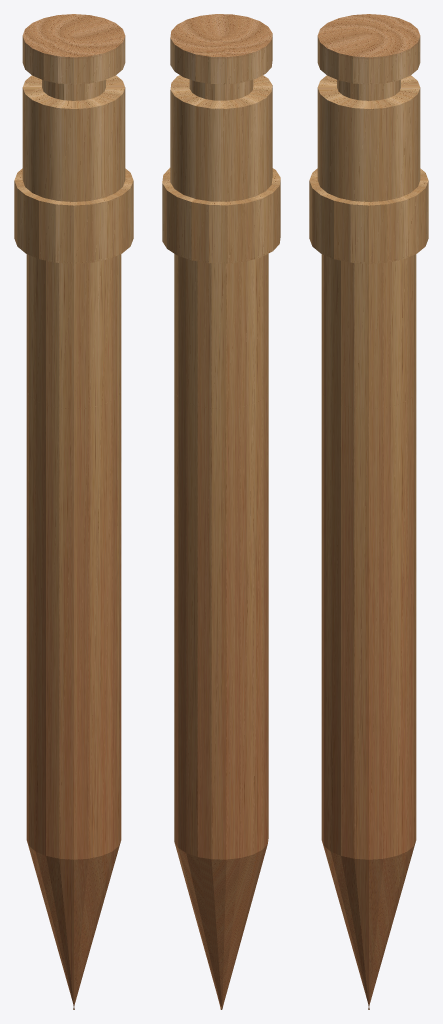
Rendered from palillo.fbx.
The picture shows the model from 3 angles, left to right: view 1: azimuth 90°, elevation 25°; view 2: azimuth 150°, elevation 25°; view 3: azimuth 270°, elevation 25°; orthographic projection.
Visible parts, largest first — view 1: pCylinder1; view 2: pCylinder1; view 3: pCylinder1.
Part boxes in pixels (x1,y1,x2,y2): pCylinder1: [14, 14, 133, 1009]; pCylinder1: [162, 14, 280, 1009]; pCylinder1: [309, 14, 428, 1009].
Size of the model in its own units: 2.32 by 20.95 by 2.32.
